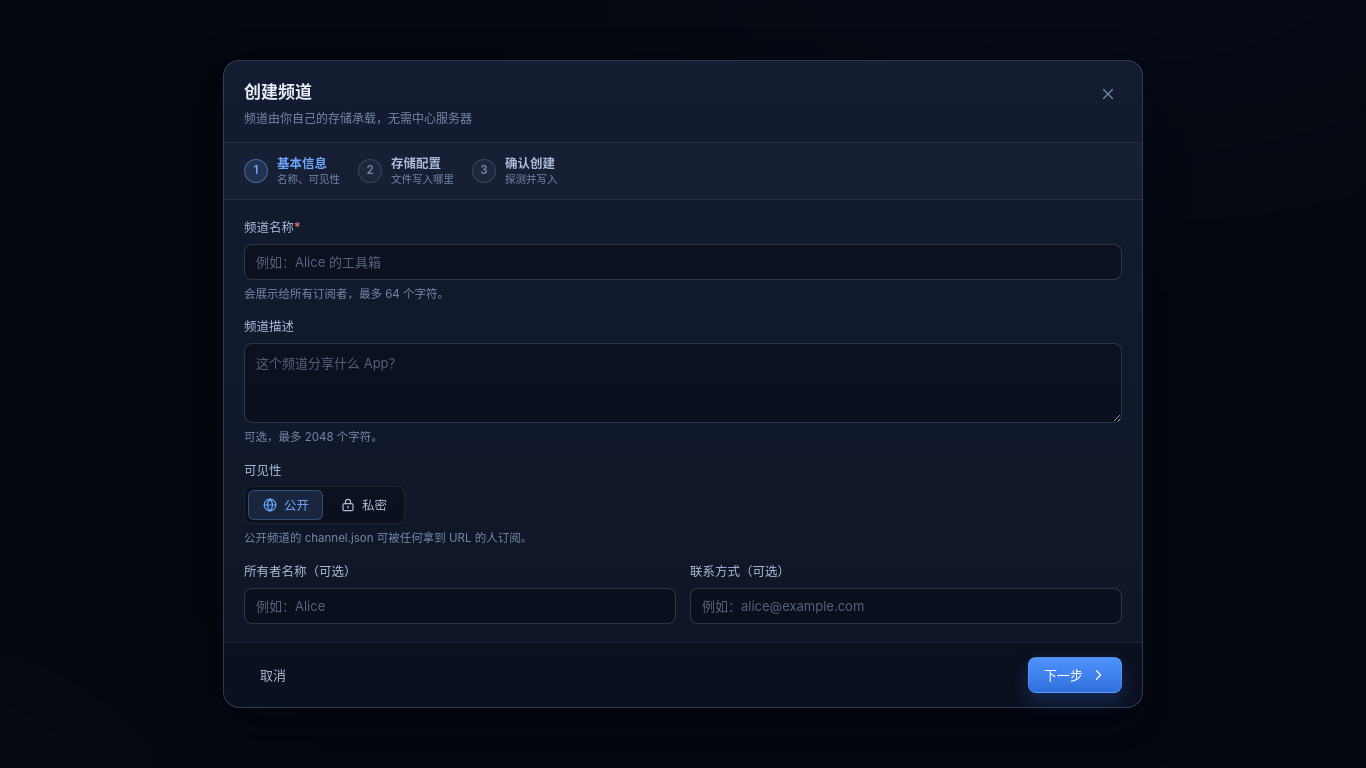
Test case: 创建频道向导 › 默认存储类型为 local-host（本机 Host）
Type "测试频道" into the field with test id "create-channel-name" at (683, 262), box [244,244,1122,280]
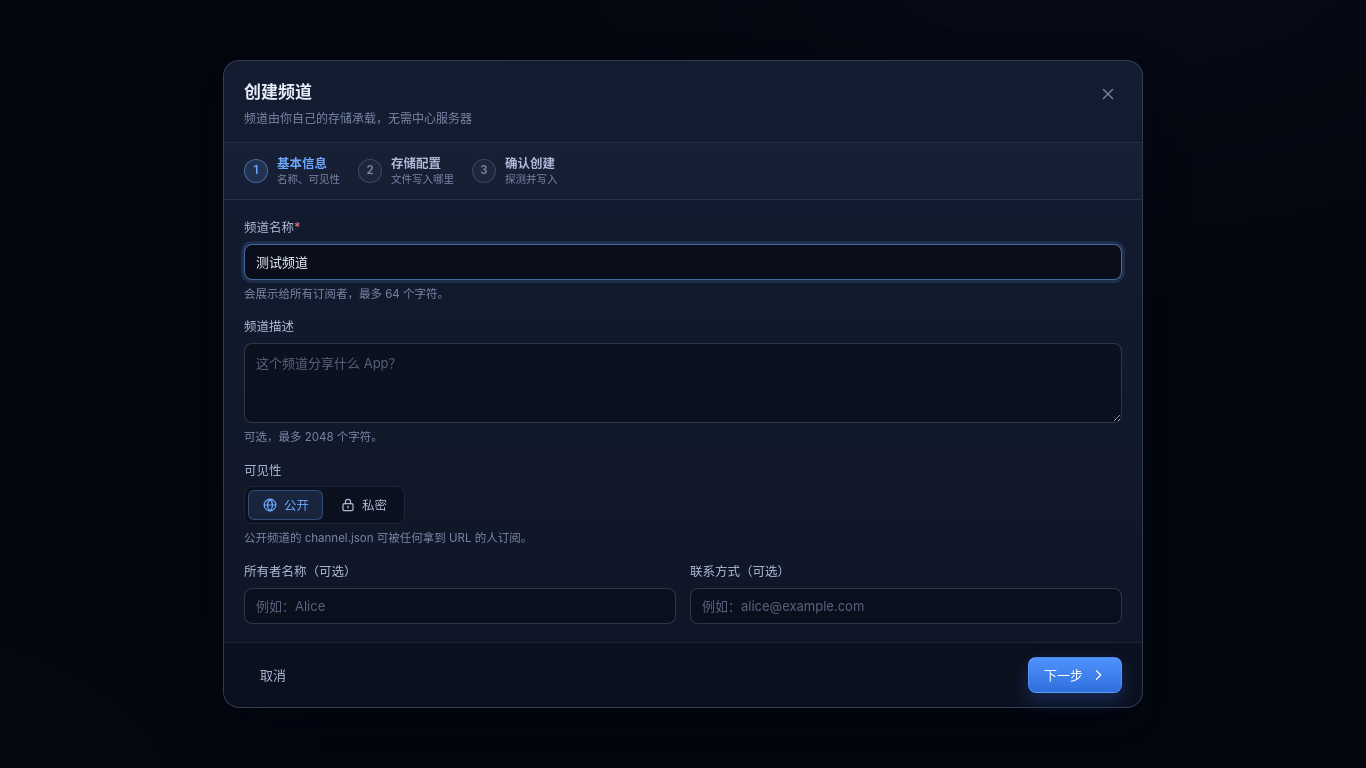
Click the button with test id "create-channel-next" at (1075, 675), box [1028,657,1122,693]
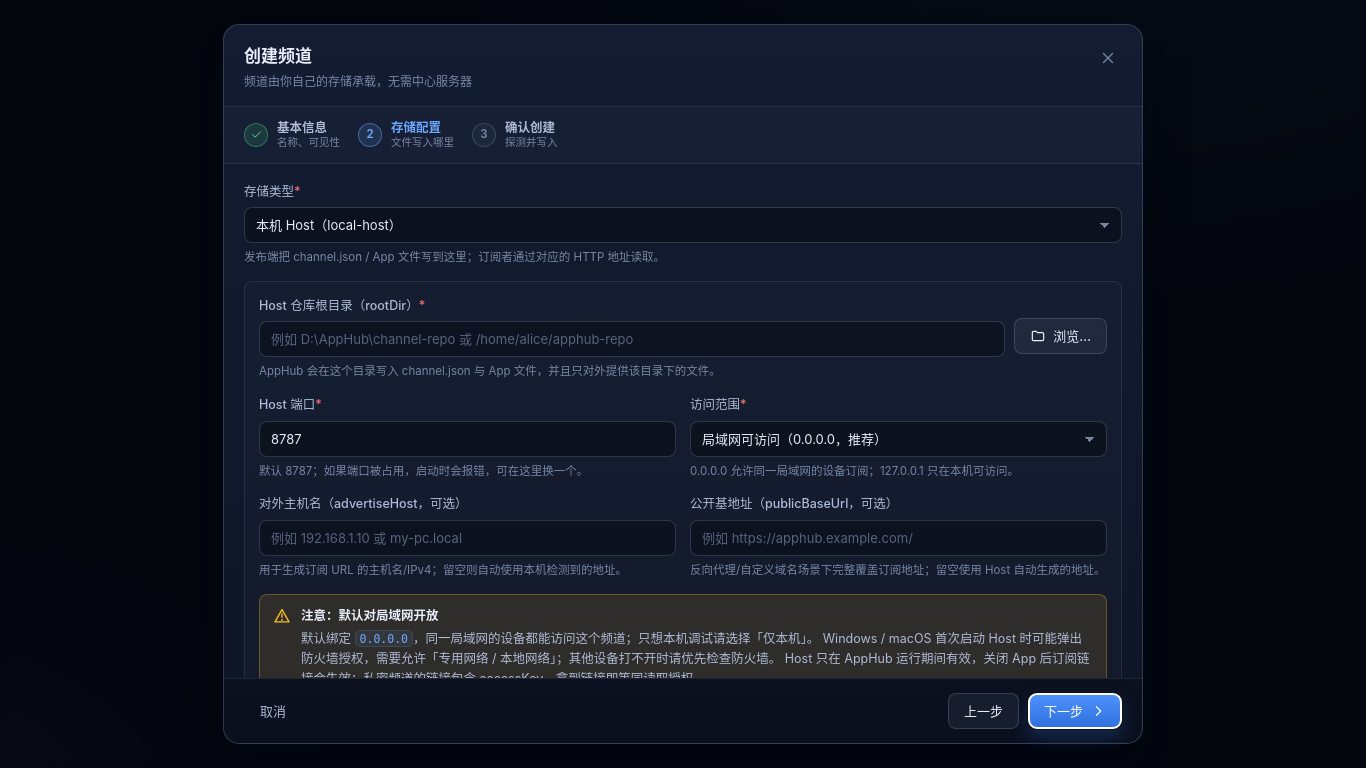
Check: the dropdown with test id "storage-provider-select" shows "本机 Host（local-host）", box [244,207,1122,243]
Check: the number field with test id "local-host-port" is shown, box [259,421,676,457]
